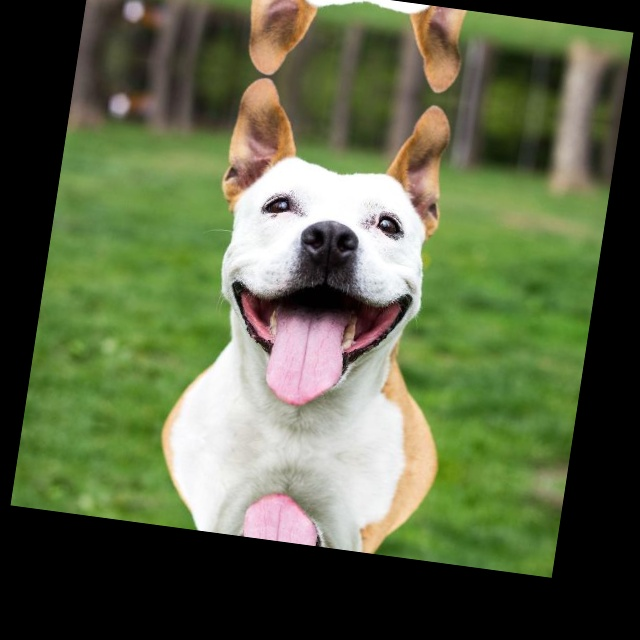dog: (151, 67, 505, 470), (137, 431, 450, 562), (206, 0, 518, 108)
